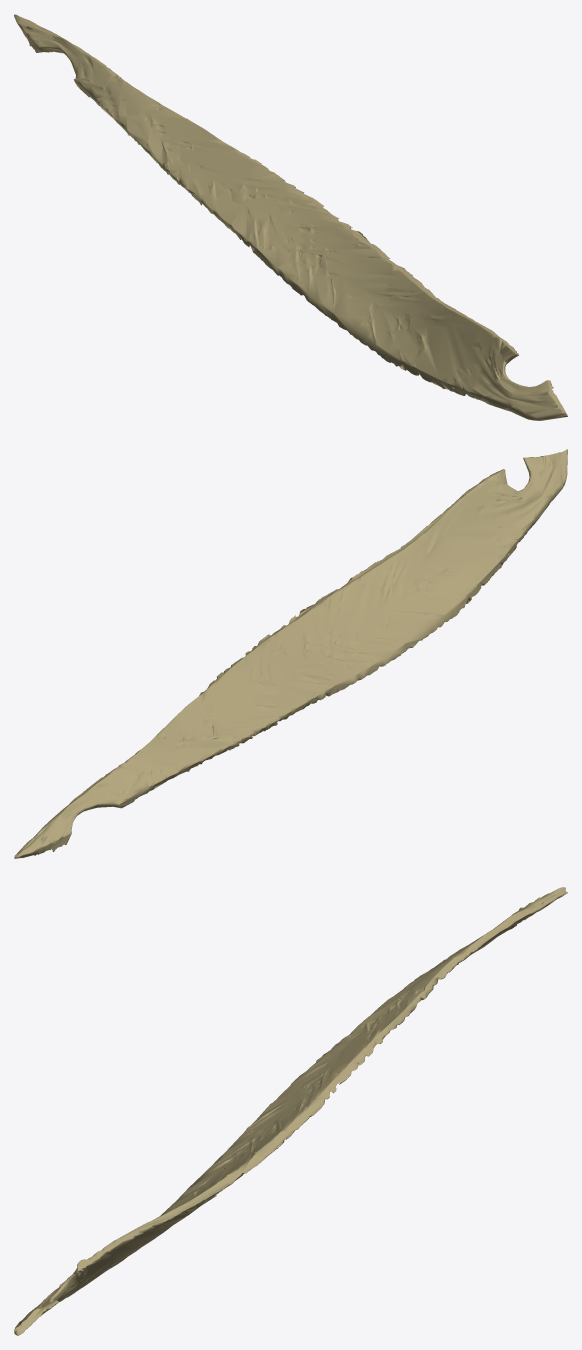
3 renders of one model, top to bottom at view 1: azimuth 30°, elevation 25°; view 2: azimuth 150°, elevation 25°; view 3: azimuth 330°, elevation 25°, orthographic. The views are drawn at different scales.
Parts seen in each view (by area): view 1: 左侧小腿骨间膜; view 2: 左侧小腿骨间膜; view 3: 左侧小腿骨间膜.
Part boxes in pixels (x1,y1,x2,y2): 左侧小腿骨间膜: [14, 14, 567, 420]; 左侧小腿骨间膜: [14, 449, 567, 858]; 左侧小腿骨间膜: [14, 887, 567, 1335].
Size of the model in its own units: 0.0332 by 0.0315 by 0.4313.
